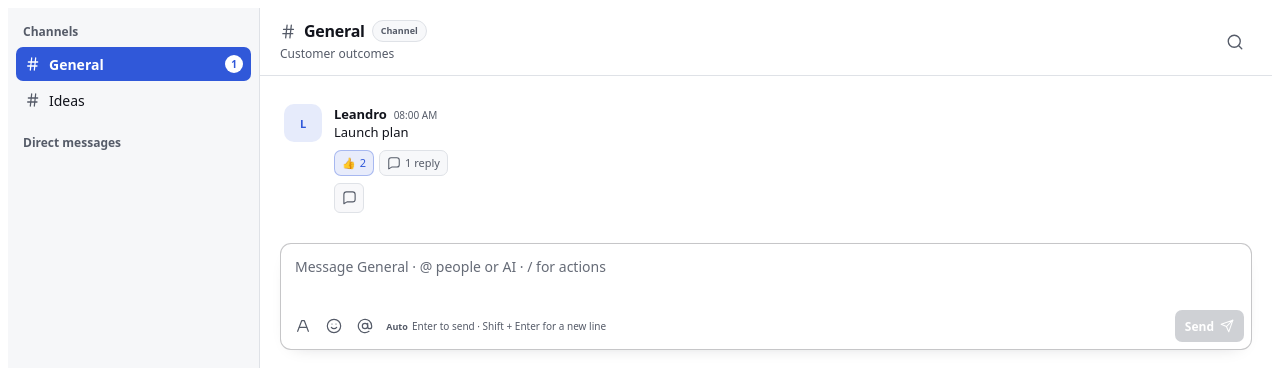
Test: React 18 host compatibility › sends through the bounded composer and searches the active room
In the dropdown labelled "Message General": (766, 275) x1=281 y1=244 x2=1251 y2=306, type "We should ship"
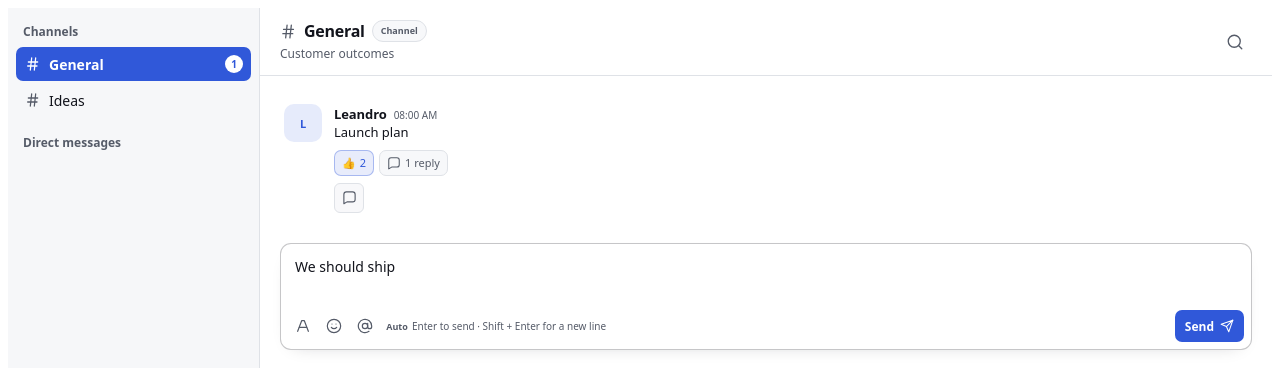
Click the button "Send": (1209, 326) x1=1175 y1=310 x2=1244 y2=342
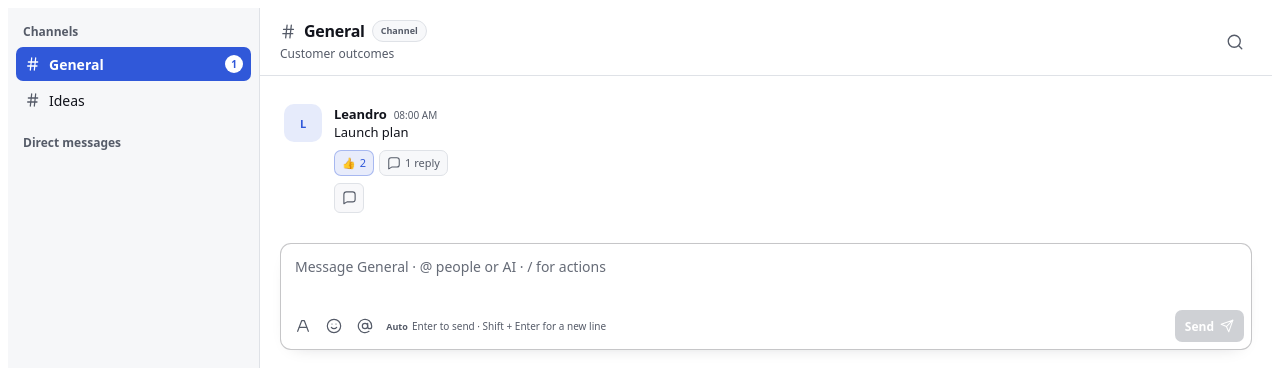
Click the button named "Search": (1235, 42) x1=1218 y1=24 x2=1252 y2=58
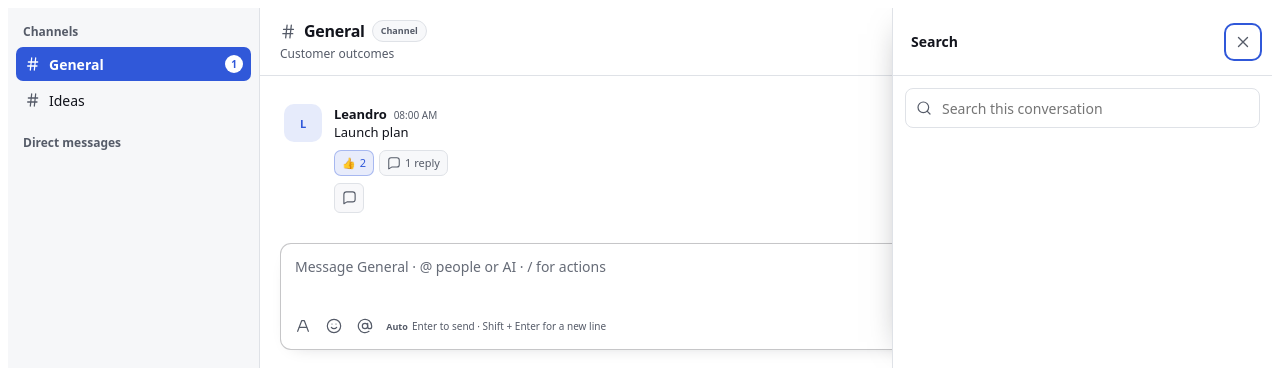
In the search field named "Search messages": (1094, 108) x1=940 y1=89 x2=1249 y2=127, type "compatibility"
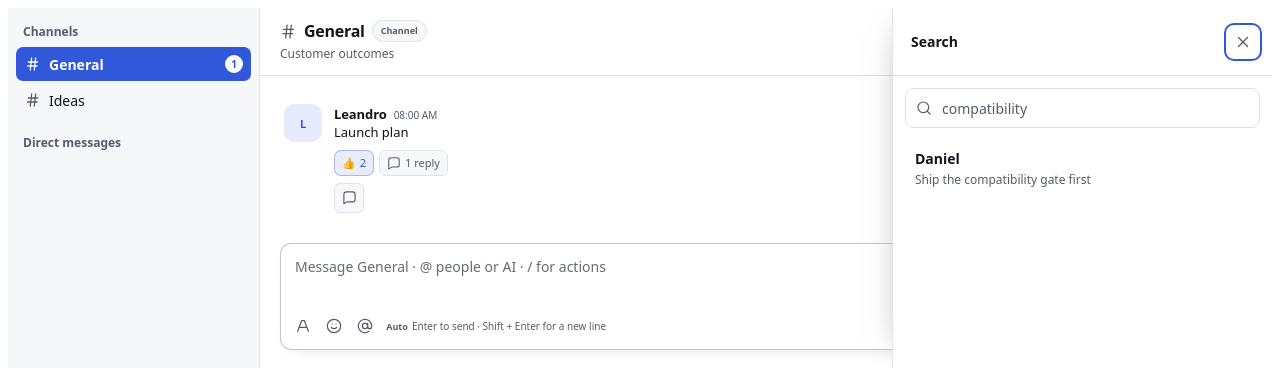
Result: the text "Ship the compatibility gate first" is shown at x1=915 y1=171 x2=1091 y2=188
